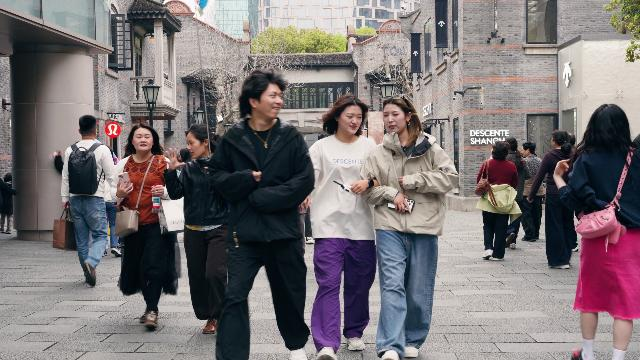person: (204, 68, 315, 360), (358, 94, 460, 360), (553, 104, 640, 360), (300, 94, 381, 360), (108, 124, 181, 329), (164, 123, 229, 335), (60, 115, 119, 286), (526, 130, 575, 269), (473, 141, 519, 261), (520, 141, 546, 243), (105, 140, 122, 258), (568, 133, 579, 252), (0, 173, 17, 234), (303, 204, 314, 244)
